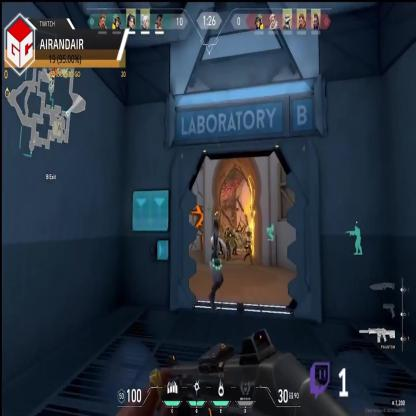enemy: (244, 227, 253, 264), (226, 226, 231, 258), (233, 226, 238, 255), (224, 227, 228, 254)
enemy_head: (245, 228, 250, 236), (227, 227, 230, 233), (234, 227, 237, 231), (225, 227, 227, 232)
